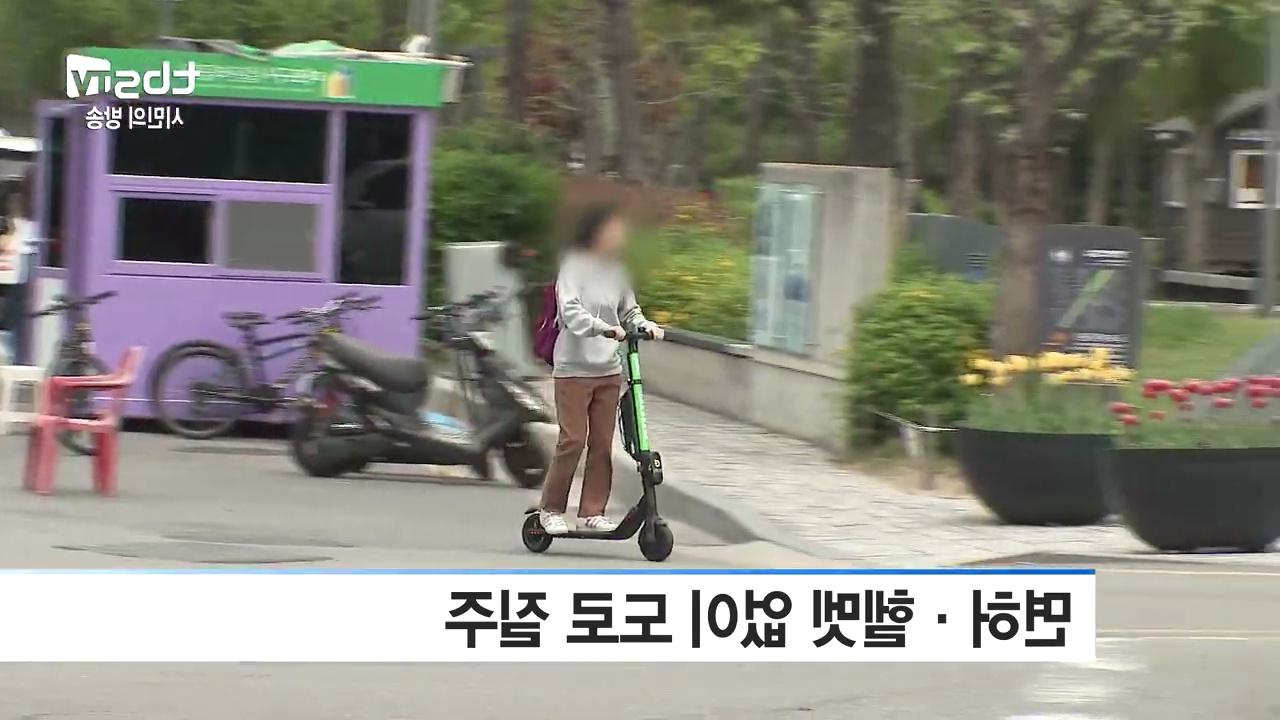nonhelmet: (511, 197, 677, 563)
